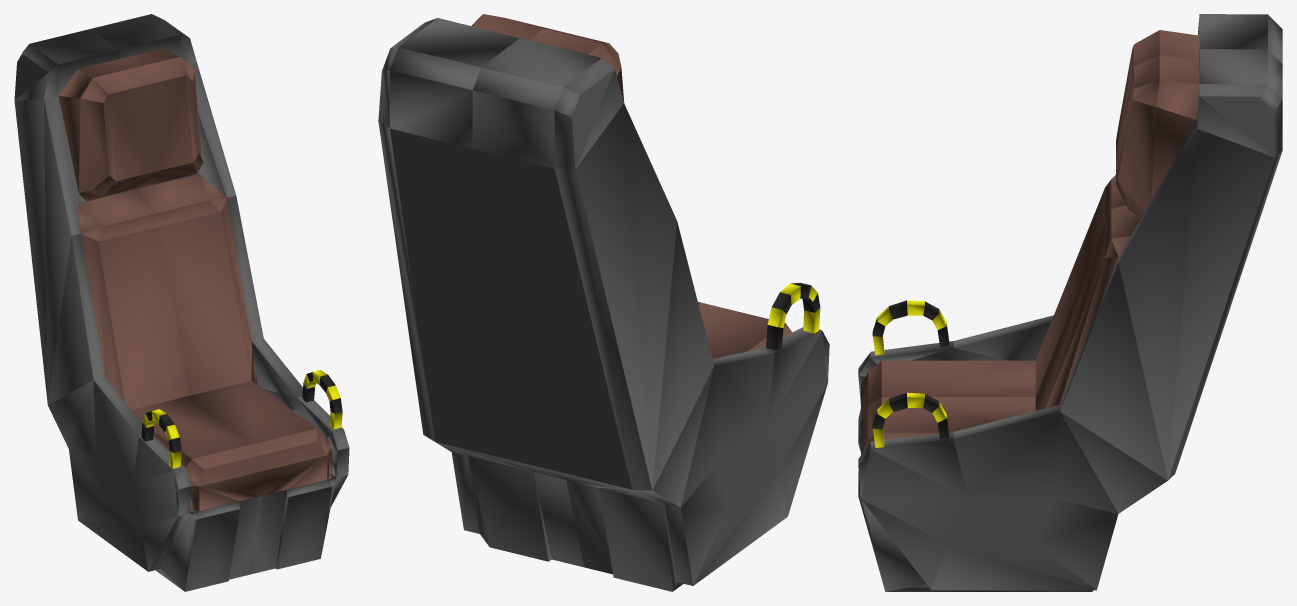
Rendered from ejection seat.glb.
3 views of the same model, side by side, from view 1: azimuth 30°, elevation 25°; view 2: azimuth 150°, elevation 25°; view 3: azimuth 270°, elevation 25° (orthographic). The views are drawn at different scales.
Parts seen in each view (by area): view 1: tripo_node_d88eb3fb-7d4c-4aa6-b7b1-d5001e71379c.001; view 2: tripo_node_d88eb3fb-7d4c-4aa6-b7b1-d5001e71379c.001; view 3: tripo_node_d88eb3fb-7d4c-4aa6-b7b1-d5001e71379c.001.
Boxes of the visible parts, x1,y1,x2,y2 form: tripo_node_d88eb3fb-7d4c-4aa6-b7b1-d5001e71379c.001: (14,14,349,591); tripo_node_d88eb3fb-7d4c-4aa6-b7b1-d5001e71379c.001: (378,14,829,591); tripo_node_d88eb3fb-7d4c-4aa6-b7b1-d5001e71379c.001: (858,14,1282,591).
Bounding box in the file's own units: 0.5807 × 1.4 × 1.06.
